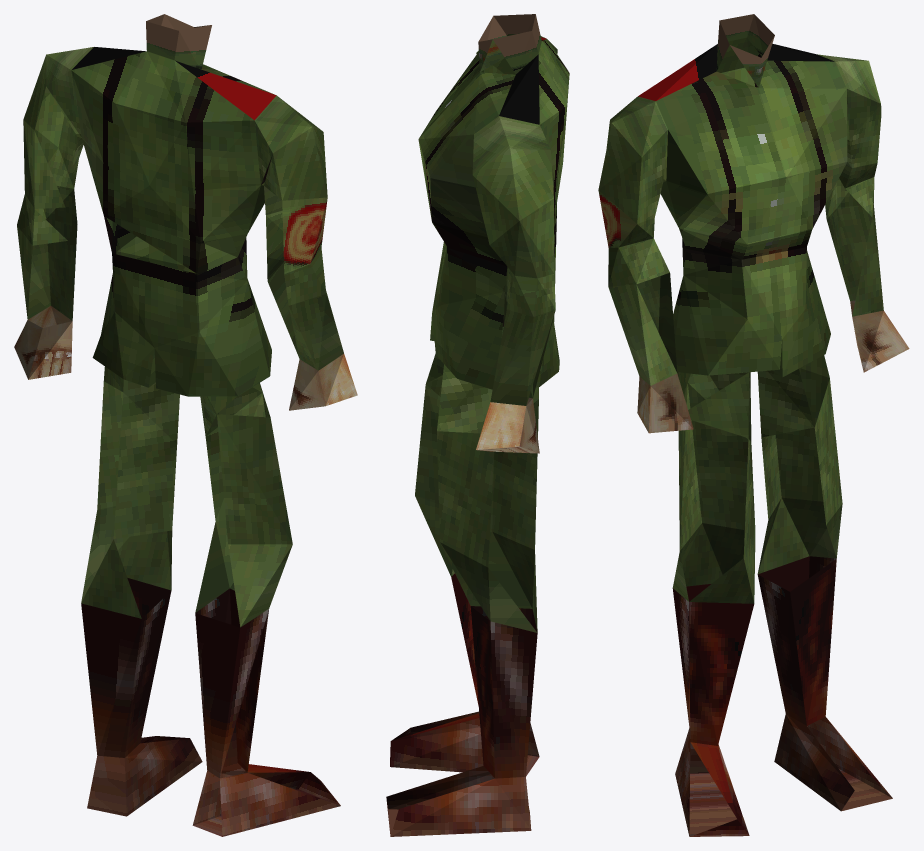
File: primary_015.glb
3 renders of one model, left to right at view 1: azimuth 30°, elevation 25°; view 2: azimuth 150°, elevation 25°; view 3: azimuth 270°, elevation 25°, orthographic. The views are drawn at different scales.
Visible parts, largest first — view 1: Object; view 2: Object; view 3: Object.
Part boxes in pixels (<box>): Object: <box>14,14,357,836</box>; Object: <box>386,14,569,836</box>; Object: <box>598,14,909,836</box>.
Bounding box in the file's own units: 0.5466 × 1.83 × 0.6836.
64 materials, 64 textured.
